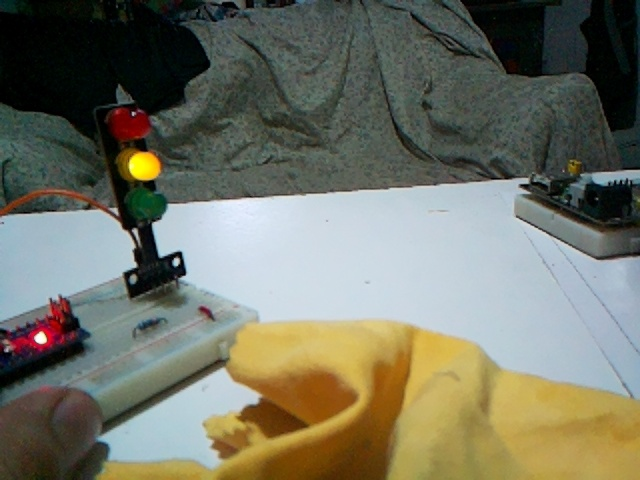traffic_light_yellow: (95, 103, 166, 228)
